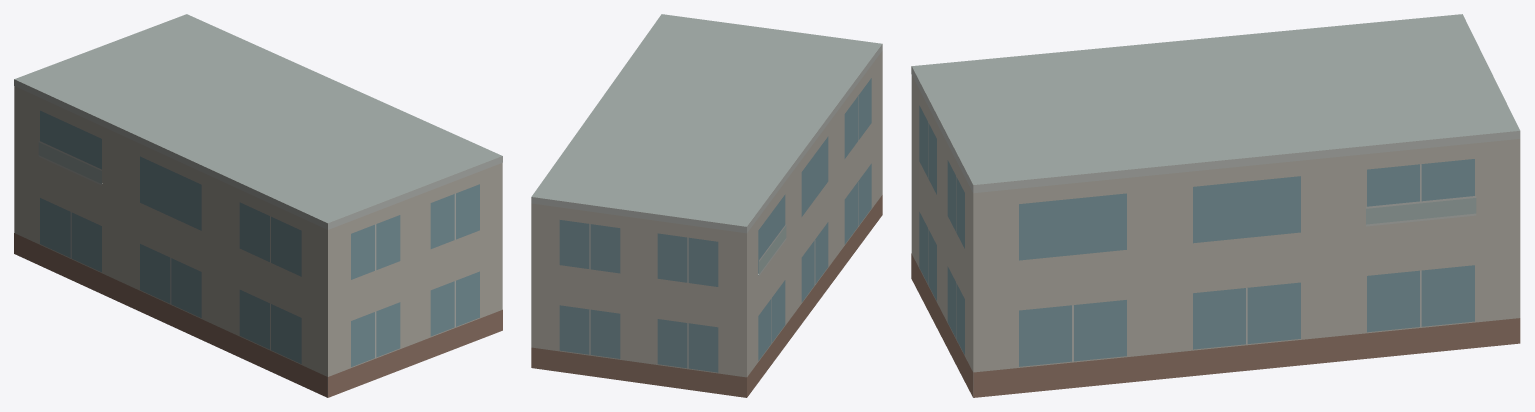
File: survey-upis-32607814.glb
3 renders of one model, left to right at view 1: azimuth 30°, elevation 25°; view 2: azimuth 150°, elevation 25°; view 3: azimuth 270°, elevation 25°, orthographic. The views are drawn at different scales.
Parts seen in each view (by area): view 1: survey-upis-32607814.tmp; view 2: survey-upis-32607814.tmp; view 3: survey-upis-32607814.tmp.
Part boxes in pixels (bbox=[...]): survey-upis-32607814.tmp: bbox=[14, 14, 502, 397]; survey-upis-32607814.tmp: bbox=[531, 14, 882, 397]; survey-upis-32607814.tmp: bbox=[911, 14, 1520, 397].
Bounding box in the file's own units: 11.05 × 6.4 × 16.61.
